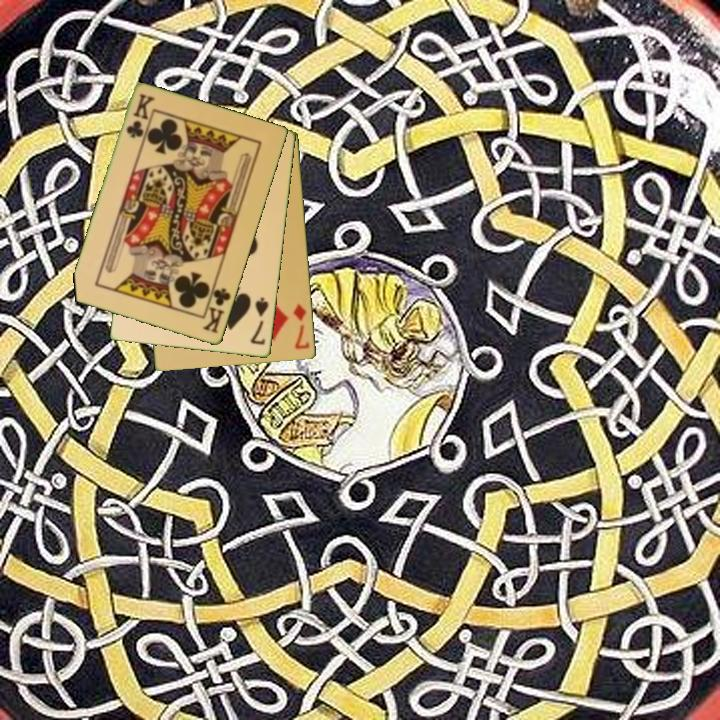7d: (290, 301, 313, 352)
7s: (247, 294, 272, 348)
Kc: (200, 280, 234, 337), (123, 91, 156, 142)
